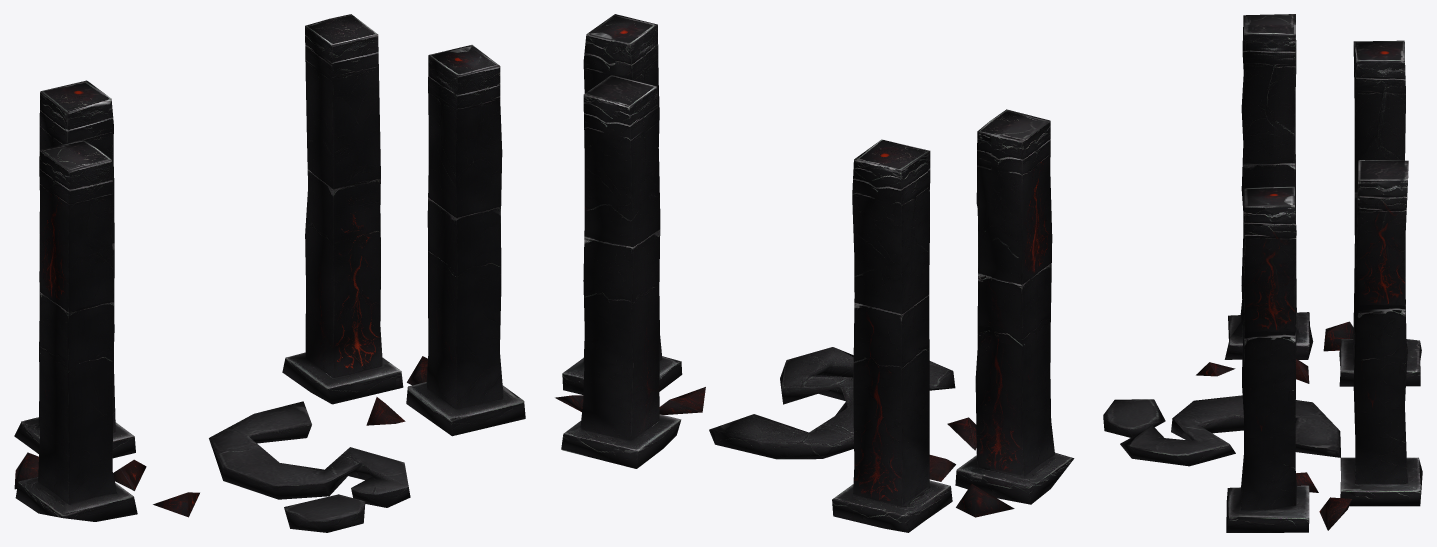
The model's file is p_Low_poly_of_tall_dar.glb.
3 renders of one model, left to right at view 1: azimuth 30°, elevation 25°; view 2: azimuth 150°, elevation 25°; view 3: azimuth 270°, elevation 25°, orthographic. The views are drawn at different scales.
Parts seen in each view (by area): view 1: Mesh_0; view 2: Mesh_0; view 3: Mesh_0.
Boxes of the visible parts, box(x1,y1,x2,y2) form: Mesh_0: box(14, 14, 525, 532); Mesh_0: box(555, 14, 1074, 532); Mesh_0: box(1103, 14, 1422, 532).
Bounding box in the file's own units: 1.9 × 1.37 × 1.24.
1 material, 1 textured.
